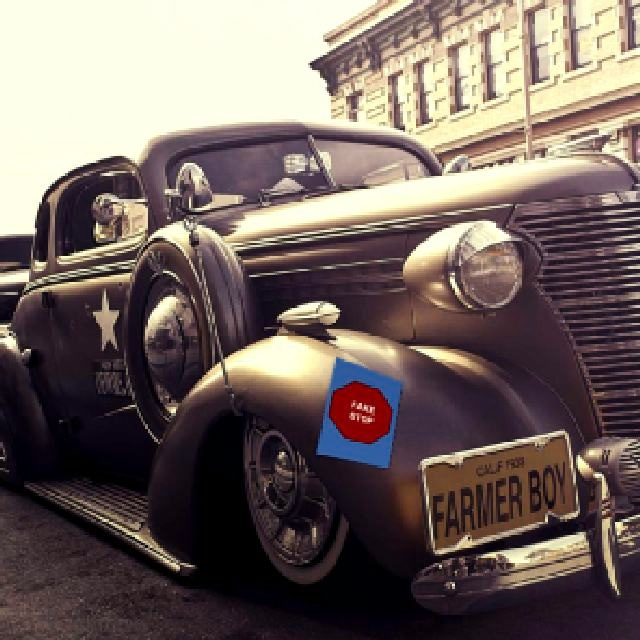FAKE_STOP: (323, 373, 395, 451)
